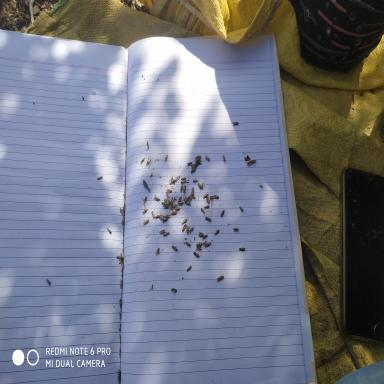pbw: (142, 178, 148, 188), (181, 217, 188, 225), (118, 369, 122, 382), (182, 222, 187, 232), (217, 274, 224, 281), (161, 201, 168, 208), (143, 218, 149, 226), (196, 159, 202, 167), (164, 153, 169, 162), (142, 196, 147, 205), (170, 197, 174, 208), (186, 265, 192, 272), (165, 187, 172, 193), (213, 229, 220, 235), (183, 184, 187, 194), (155, 247, 160, 255), (166, 196, 170, 205), (202, 193, 208, 199), (151, 210, 155, 219), (154, 194, 160, 200), (164, 213, 171, 218), (231, 121, 238, 126), (146, 157, 151, 164), (107, 227, 112, 234), (119, 207, 124, 214), (189, 168, 196, 173), (204, 242, 212, 246), (140, 157, 144, 165), (206, 196, 210, 204), (194, 158, 198, 166), (238, 206, 243, 212), (205, 154, 210, 160), (142, 208, 148, 213), (146, 186, 151, 192), (46, 278, 51, 284), (194, 252, 200, 257), (189, 227, 194, 233), (172, 245, 178, 250), (186, 224, 189, 234), (159, 229, 165, 234), (203, 234, 208, 240), (97, 175, 103, 180), (205, 216, 211, 221), (184, 241, 190, 246), (201, 207, 206, 213), (198, 232, 204, 237), (232, 227, 239, 231), (171, 177, 175, 184), (189, 192, 192, 201), (120, 279, 123, 288), (196, 244, 201, 249), (190, 195, 195, 200), (201, 181, 204, 189), (160, 216, 164, 222), (121, 251, 124, 259), (116, 255, 122, 259), (239, 247, 245, 251), (180, 184, 183, 192), (122, 216, 125, 224), (180, 180, 186, 184), (196, 241, 202, 245), (176, 175, 180, 181), (163, 232, 169, 236), (166, 192, 170, 198), (192, 178, 198, 182), (204, 204, 210, 208), (172, 210, 178, 214), (221, 209, 224, 217), (186, 161, 192, 165), (185, 201, 191, 205), (163, 218, 168, 222), (181, 176, 186, 180), (214, 195, 219, 199), (210, 195, 214, 200), (198, 183, 202, 188), (183, 197, 187, 202), (172, 288, 177, 292), (172, 204, 176, 209), (155, 214, 160, 218), (120, 298, 122, 308), (196, 155, 202, 158), (202, 240, 206, 244), (165, 205, 169, 209), (121, 263, 123, 271), (176, 207, 180, 211), (223, 154, 225, 162), (192, 187, 194, 195), (150, 172, 152, 178), (180, 196, 182, 202), (187, 196, 190, 200), (147, 141, 149, 146), (178, 197, 180, 202), (122, 247, 124, 252), (178, 202, 183, 204), (164, 198, 166, 202), (118, 262, 122, 264), (119, 259, 122, 261), (162, 215, 165, 217)
